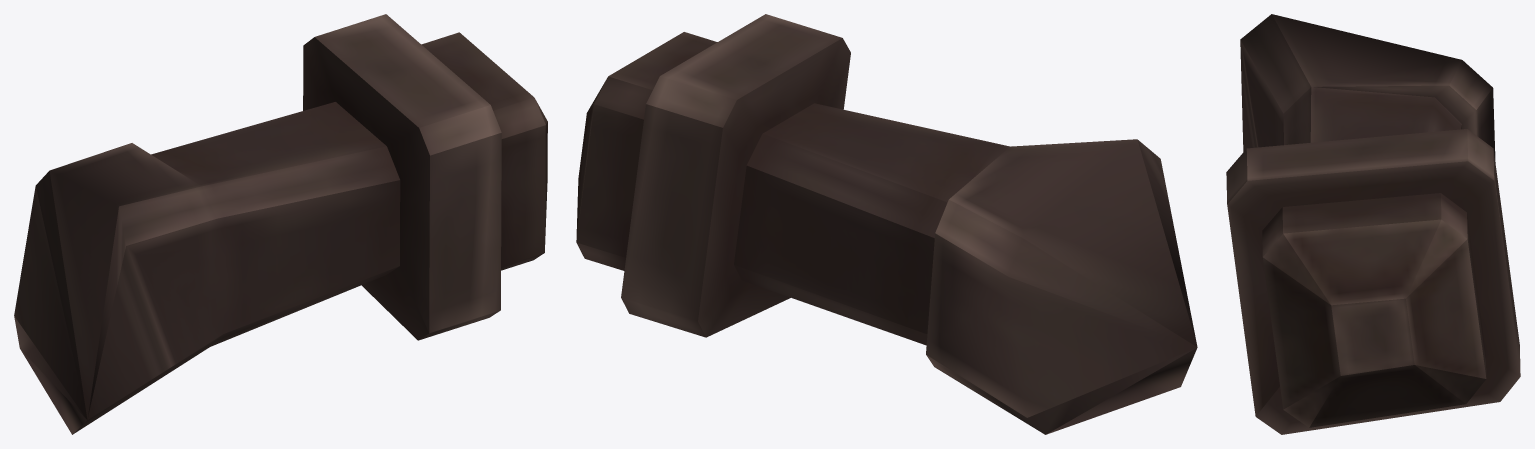
File: rock_05.fbx
The picture shows the model from 3 angles, left to right: view 1: azimuth 30°, elevation 25°; view 2: azimuth 150°, elevation 25°; view 3: azimuth 270°, elevation 25°; orthographic projection. The views are drawn at different scales.
Visible parts, largest first — view 1: rock_05; view 2: rock_05; view 3: rock_05.
Part boxes in pixels (box(x1,y1,x2,y2)): rock_05: box(14, 14, 547, 434); rock_05: box(576, 14, 1197, 434); rock_05: box(1226, 14, 1520, 434).
Size of the model in its own units: 1.3 by 0.6376 by 0.6081.
